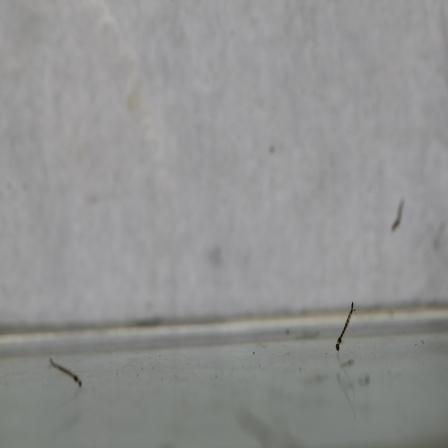Jentik-Nyamuk: (331, 296, 359, 353), (47, 354, 86, 390)
